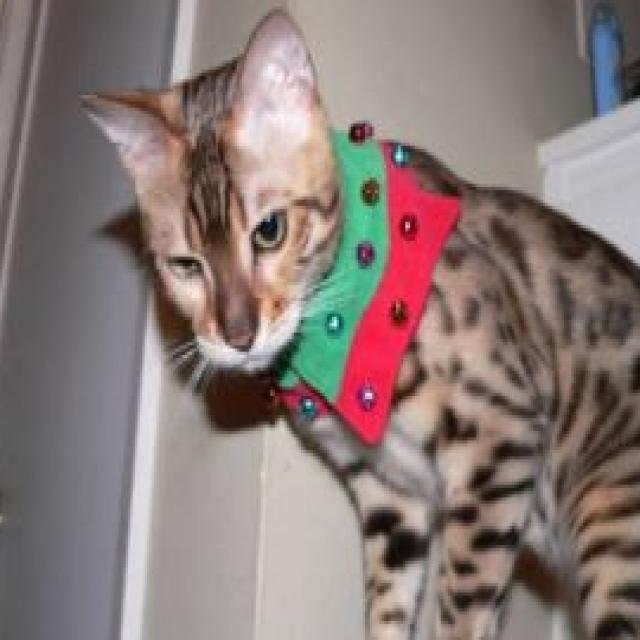Bengal: (73, 3, 640, 640)
